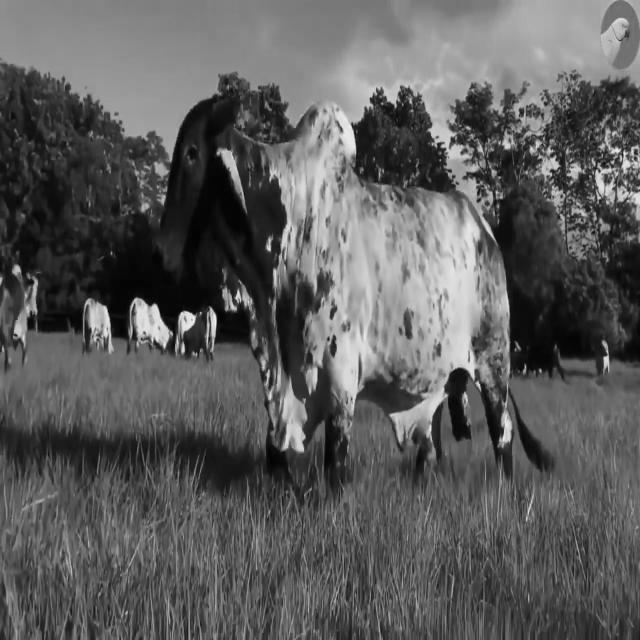cow: (156, 98, 514, 488)
